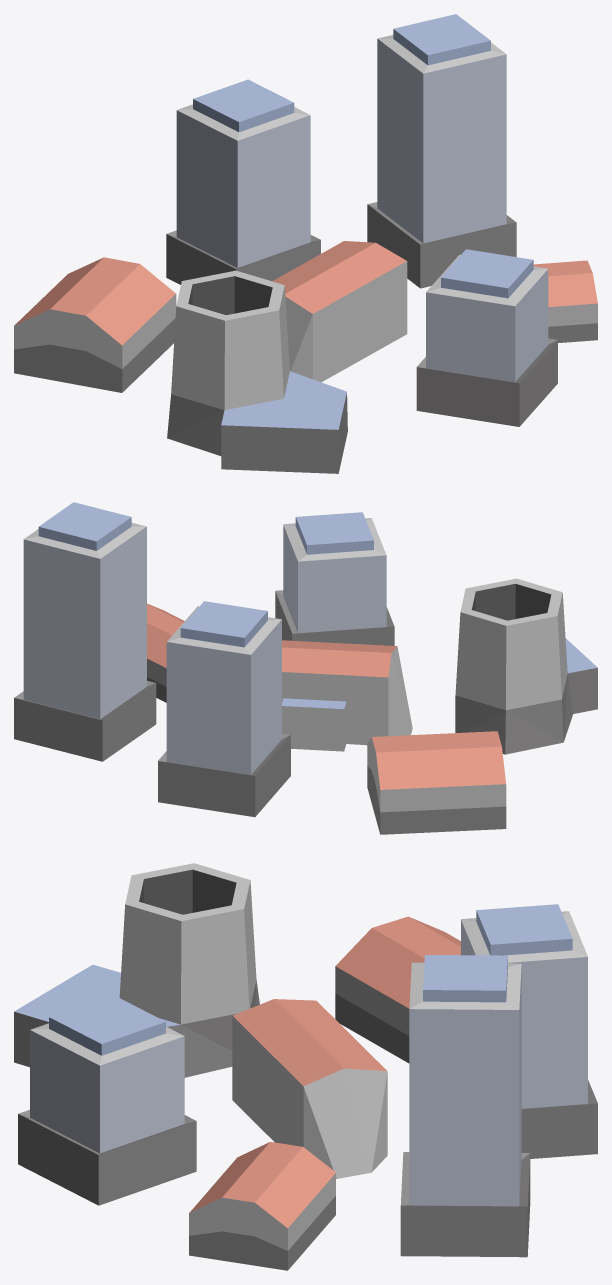
Rendered from beta02_01_l.dae.
The picture shows the model from 3 angles, top to bottom: view 1: azimuth 30°, elevation 25°; view 2: azimuth 150°, elevation 25°; view 3: azimuth 270°, elevation 25°; orthographic projection. The views are drawn at different scales.
Visible parts, largest first — view 1: Cube; view 2: Cube; view 3: Cube.
Part boxes in pixels (x1=…): Cube: x1=14, y1=14, x2=597, y2=473; Cube: x1=14, y1=502, x2=597, y2=834; Cube: x1=14, y1=863, x2=597, y2=1270.
Size of the model in its own units: 1.84 by 1.61 by 0.7986.
